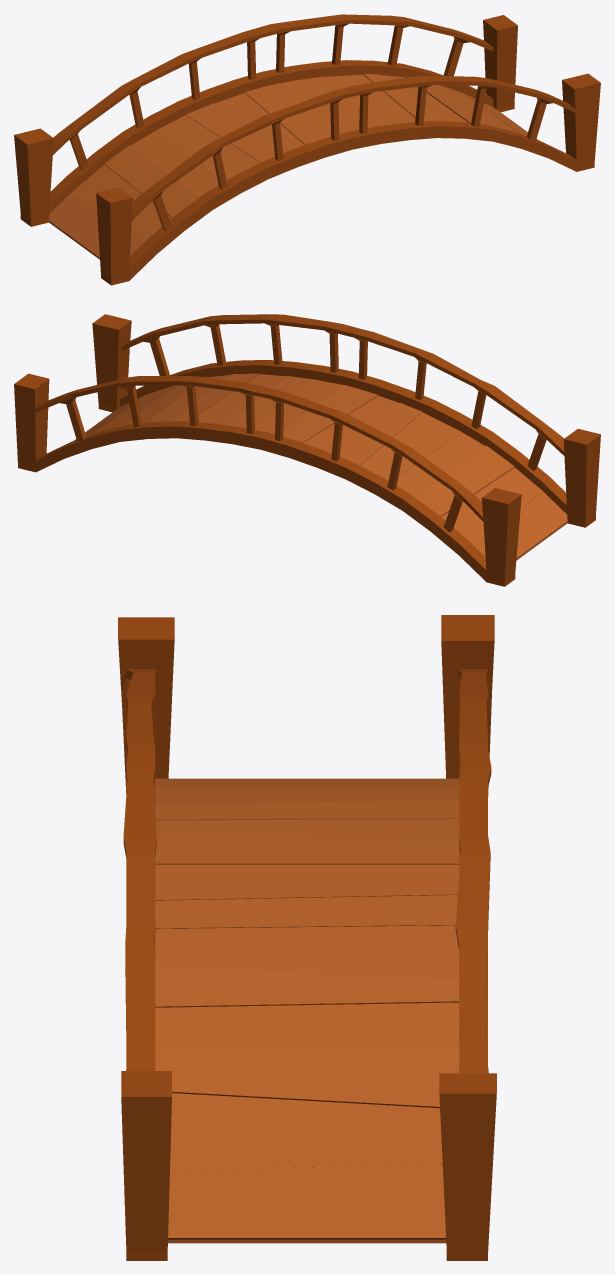
File: Pont #1.FBX
The picture shows the model from 3 angles, top to bottom: view 1: azimuth 30°, elevation 25°; view 2: azimuth 150°, elevation 25°; view 3: azimuth 270°, elevation 25°; orthographic projection. The views are drawn at different scales.
Parts seen in each view (by area): view 1: Pont01; view 2: Pont01; view 3: Pont01.
Part boxes in pixels (<box>): Pont01: <box>14,14,600,285</box>; Pont01: <box>14,314,600,586</box>; Pont01: <box>118,615,496,1260</box>.
Bounding box in the file's own units: 434 × 112 × 144.
